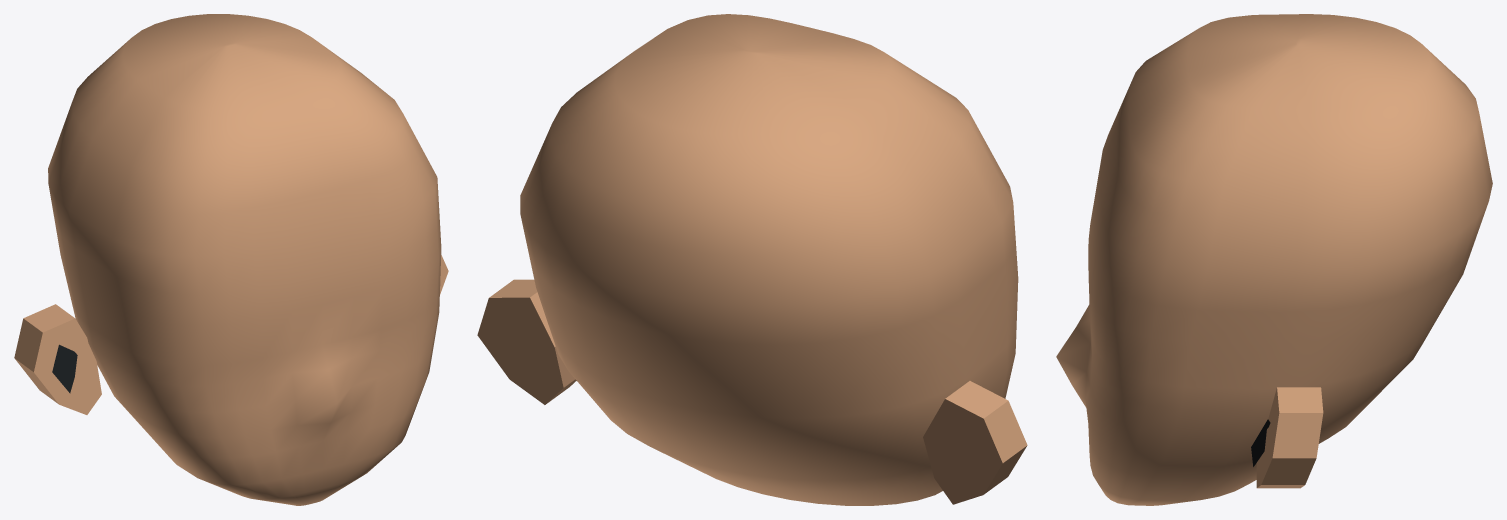
File: head-spark.glb
The picture shows the model from 3 angles, left to right: view 1: azimuth 30°, elevation 25°; view 2: azimuth 150°, elevation 25°; view 3: azimuth 270°, elevation 25°; orthographic projection. The views are drawn at different scales.
Parts seen in each view (by area): view 1: head-spark_ref2_head-spark__head_mesh; view 2: head-spark_ref2_head-spark__head_mesh; view 3: head-spark_ref2_head-spark__head_mesh.
Part boxes in pixels (left/top/right/bottom): head-spark_ref2_head-spark__head_mesh: left=14, top=14, right=448, bottom=505; head-spark_ref2_head-spark__head_mesh: left=477, top=14, right=1027, bottom=505; head-spark_ref2_head-spark__head_mesh: left=1056, top=14, right=1492, bottom=505.
Size of the model in its own units: 0.4771 by 0.438 by 0.3865.
